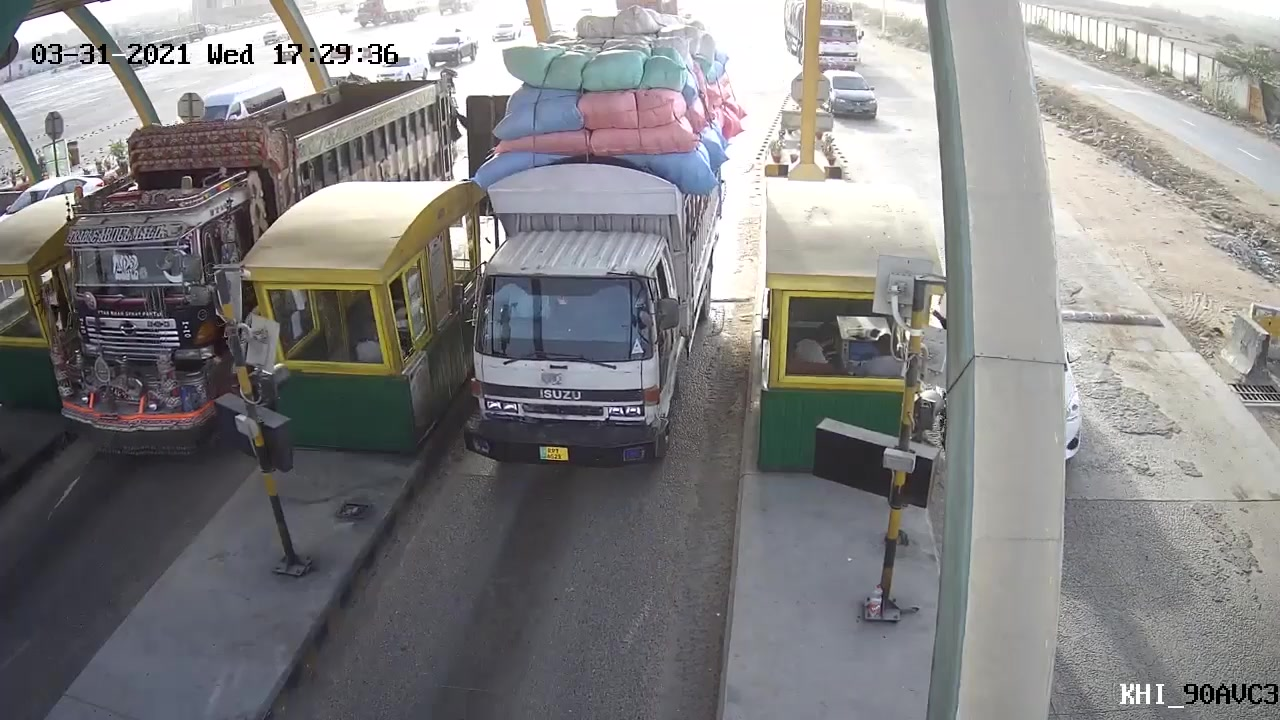F5: (444, 1, 735, 470)
